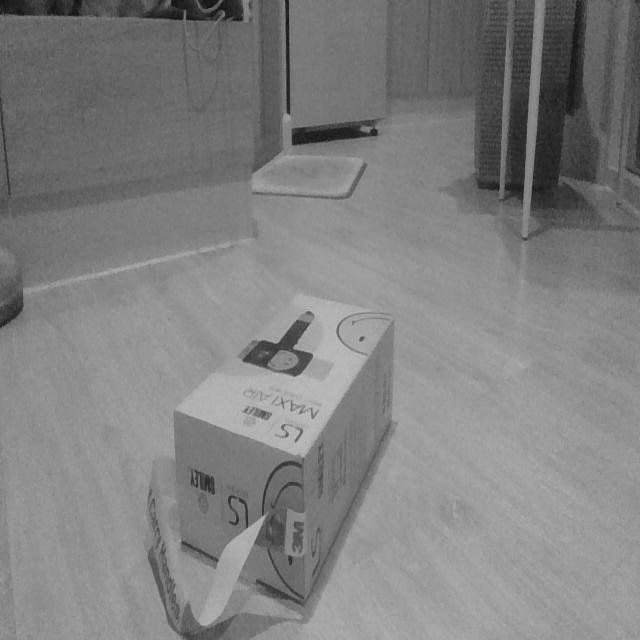Dryer: (171, 290, 397, 605)
